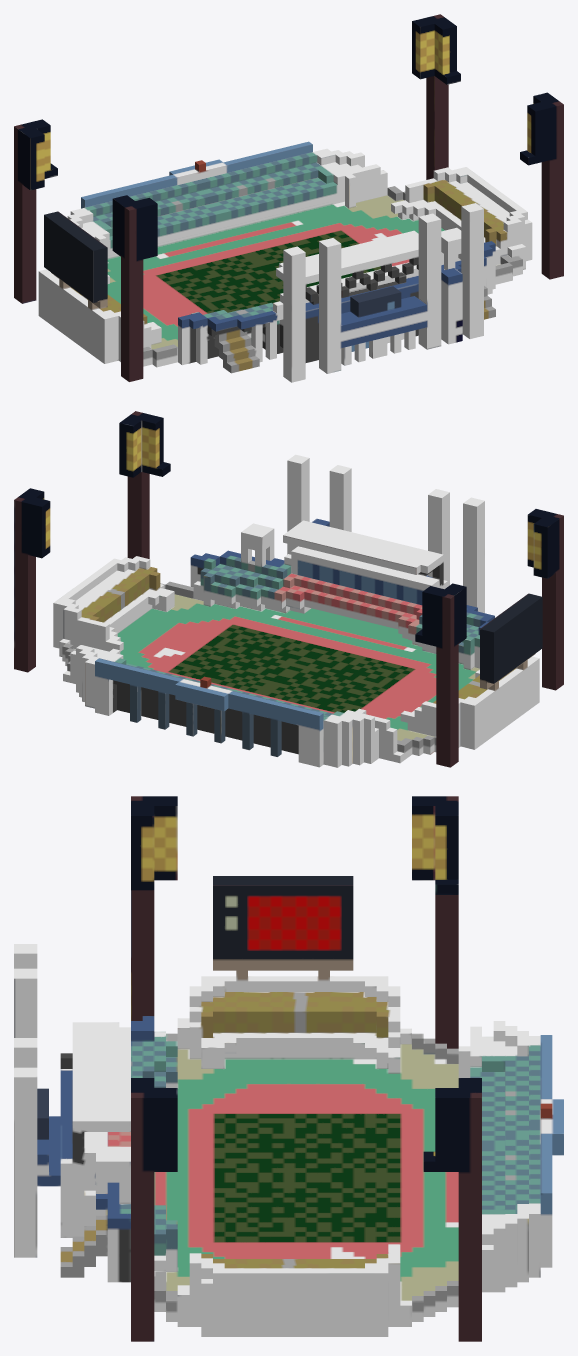
File: rikuzyoukyougijyou.glb
The picture shows the model from 3 angles, top to bottom: view 1: azimuth 30°, elevation 25°; view 2: azimuth 150°, elevation 25°; view 3: azimuth 270°, elevation 25°; orthographic projection. The views are drawn at different scales.
Visible parts, largest first — view 1: rikuzyoukyougijyou; view 2: rikuzyoukyougijyou; view 3: rikuzyoukyougijyou.
Part boxes in pixels (x1,y1,x2,y2): rikuzyoukyougijyou: (14,14,563,382); rikuzyoukyougijyou: (14,411,563,767); rikuzyoukyougijyou: (14,796,563,1341).
Size of the model in its own units: 1.24 by 0.46 by 0.94.
Materials: 1 (1 with a texture image).
